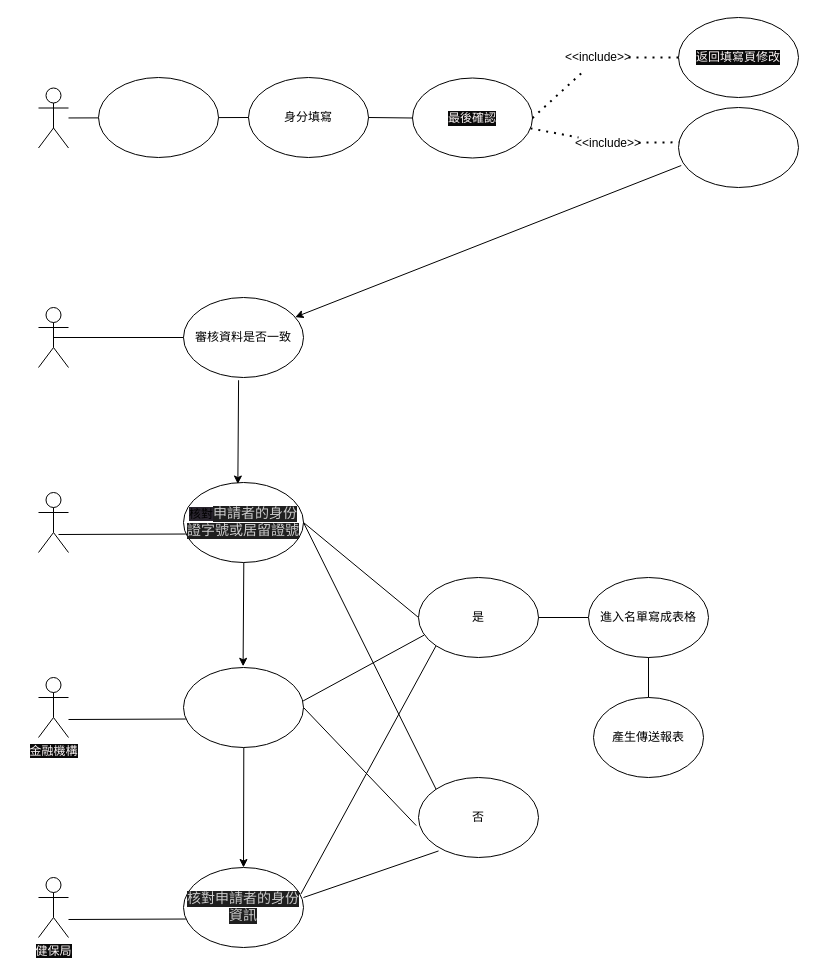
The diagram is 816 pixels wide and 976 high, and some of its shapes have lost their labels. Here are the shapes that lost their labels. From the top down, the centre of each, then its label:
the point at 53,117: 申請人
the point at 158,117: 在申請網頁登記資料
the point at 738,147: 送出
the point at 53,337: 政府機關人員
the point at 53,522: 戶政系統
the point at 243,707: 核對金融帳戶是否屬於申請者本人
